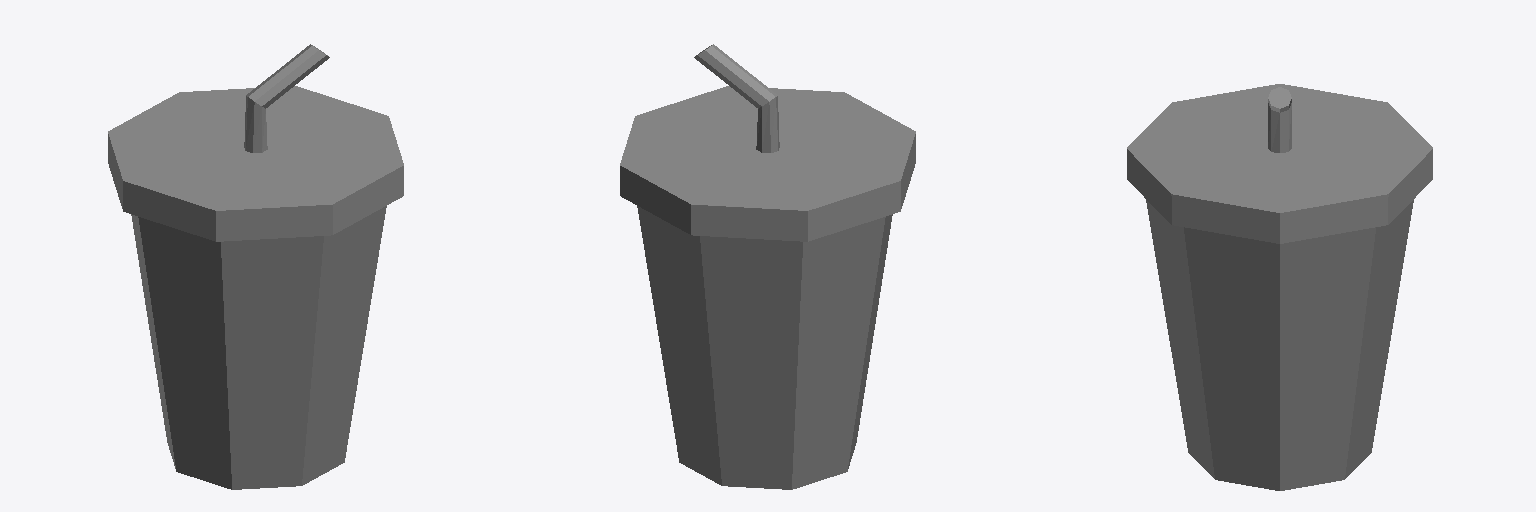
The model's file is soda.obj.
3 renders of one model, left to right at view 1: azimuth 30°, elevation 25°; view 2: azimuth 150°, elevation 25°; view 3: azimuth 270°, elevation 25°, orthographic.
Parts seen in each view (by area): view 1: soda; view 2: soda; view 3: soda.
Part boxes in pixels (x1,y1,x2,y2): soda: (108, 44, 403, 489); soda: (620, 44, 915, 489); soda: (1127, 84, 1432, 490).
Size of the model in its own units: 22.78 by 32.2 by 22.78.